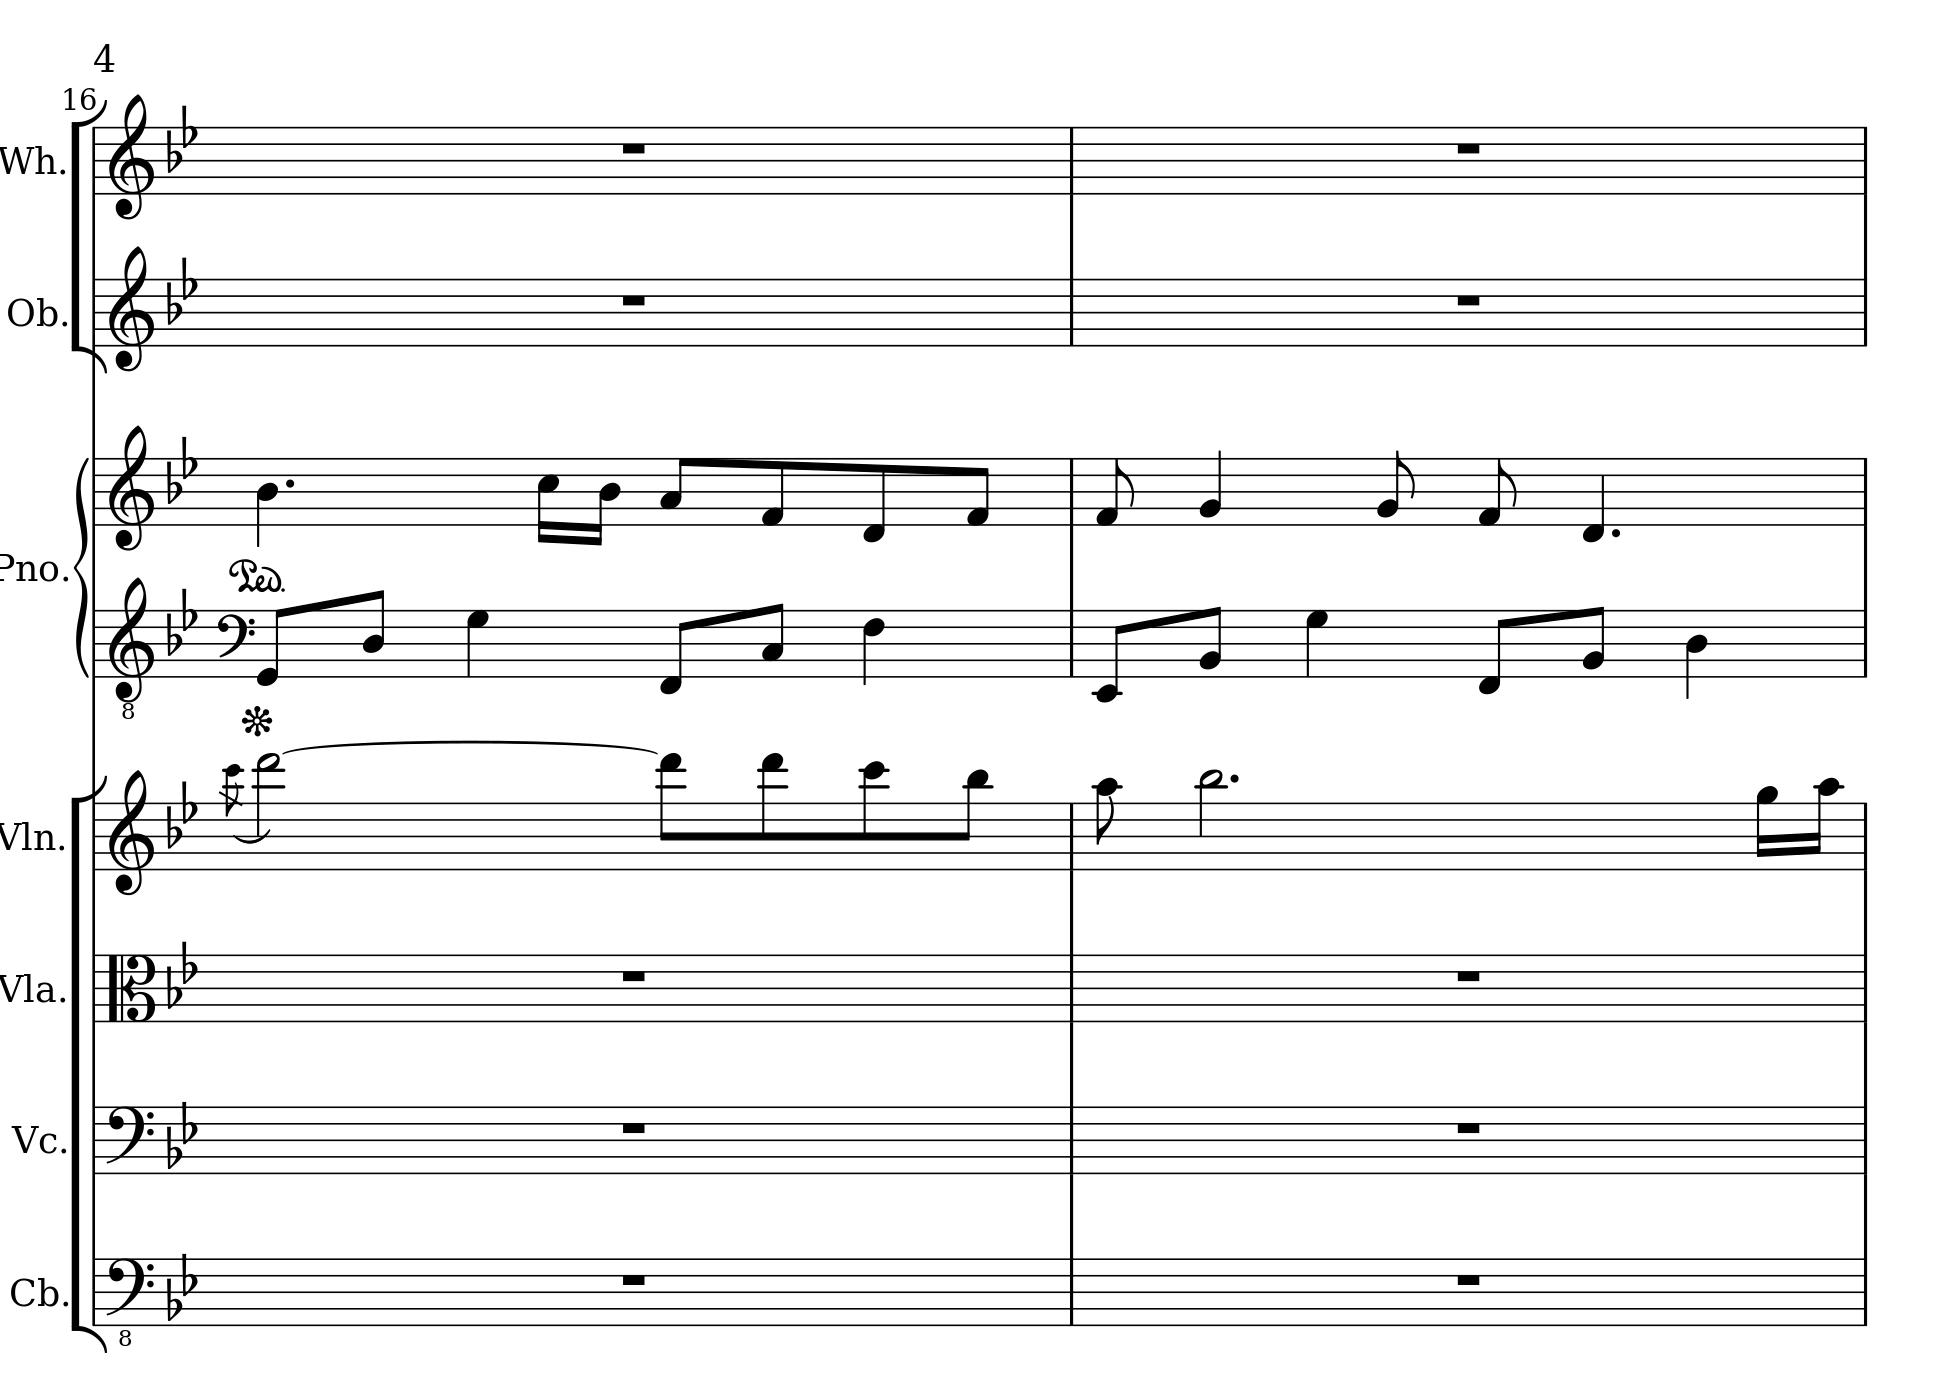1: (61, 85, 75, 112)
16_10: (1807, 775, 1842, 871)
16_4: (589, 456, 622, 547)
16_5: (535, 456, 561, 546)
16_9: (1755, 783, 1777, 871)
2_11: (1197, 768, 1225, 871)
2_13: (252, 751, 282, 873)
4: (91, 40, 115, 72)
4_-1: (1581, 454, 1606, 543)
4_2: (1198, 447, 1224, 526)
4_4: (253, 456, 279, 549), (1684, 607, 1710, 699)
4_6: (861, 607, 885, 685)
4_7: (1303, 607, 1330, 678), (465, 607, 490, 679)
6: (79, 84, 96, 111)
8_-1: (658, 607, 691, 694), (1477, 607, 1509, 694), (861, 454, 888, 544)
8_-2: (1093, 607, 1128, 703)
8_0: (256, 604, 289, 687)
8_1: (1095, 456, 1137, 526), (1477, 456, 1519, 526), (759, 456, 786, 528), (964, 454, 991, 526)
8_10: (1095, 775, 1122, 871)
8_11: (954, 766, 990, 871)
8_12: (859, 759, 888, 873)
8_13: (655, 751, 685, 871), (757, 751, 787, 871)
8_2: (1377, 448, 1416, 526), (1582, 603, 1606, 679), (1200, 604, 1224, 678)
8_3: (658, 454, 691, 526), (760, 600, 786, 679)
8_4: (360, 588, 385, 679)
Acciaccature: (220, 760, 247, 870)
B_F: (166, 100, 198, 172), (166, 253, 198, 324), (166, 432, 198, 502), (166, 585, 198, 654), (166, 937, 198, 1006), (165, 1251, 196, 1318), (166, 1098, 196, 1168), (166, 778, 196, 847)
Brace: (72, 453, 91, 678)
Bracke: (70, 778, 105, 1359), (70, 103, 108, 373)
Cbs: (7, 1273, 58, 1312)
Cclef: (103, 952, 157, 1023)
Fclef: (103, 1104, 156, 1174), (216, 607, 255, 676)
Gclef: (105, 244, 154, 373), (106, 91, 154, 220), (106, 423, 154, 552), (106, 768, 154, 897)
Lower_Fclef: (105, 1255, 154, 1345)
Lower_Gclef: (106, 574, 156, 720)
Ob: (4, 292, 61, 331)
Pno: (1, 550, 58, 586)
Rests1: (1452, 966, 1485, 985), (616, 1117, 649, 1137), (618, 138, 649, 157), (618, 289, 649, 309), (1453, 289, 1485, 309), (618, 966, 649, 985), (618, 1269, 649, 1288), (1453, 1269, 1485, 1288), (1453, 139, 1485, 157), (1453, 1117, 1485, 1135)
Single_barline: (1063, 952, 1081, 1021), (1063, 802, 1080, 870), (1857, 954, 1873, 1021), (1063, 1105, 1080, 1173), (1063, 127, 1080, 193), (1857, 127, 1873, 193), (1857, 457, 1873, 523), (1065, 609, 1081, 675), (1857, 802, 1873, 868), (1857, 1107, 1873, 1173), (1857, 1258, 1873, 1324), (1857, 279, 1873, 343), (85, 955, 102, 1020), (1857, 610, 1873, 673), (1065, 277, 1080, 343), (87, 802, 102, 868), (1065, 1258, 1080, 1323), (87, 1258, 102, 1321), (88, 457, 102, 526), (87, 279, 100, 346), (87, 127, 100, 193), (88, 610, 102, 676), (87, 1107, 100, 1173)
Slur: (277, 736, 663, 757)
Vc: (9, 1119, 57, 1159)
Vla: (1, 966, 58, 1012)
Vln: (1, 814, 57, 858)
Wh: (1, 138, 58, 180)
dot: (280, 475, 297, 490), (1227, 769, 1242, 786), (1609, 525, 1623, 538)
